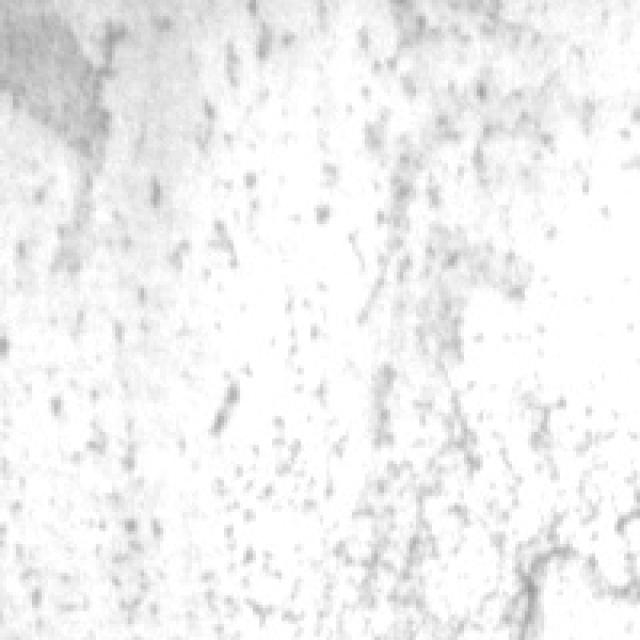pitted_surface: (13, 19, 627, 634)
